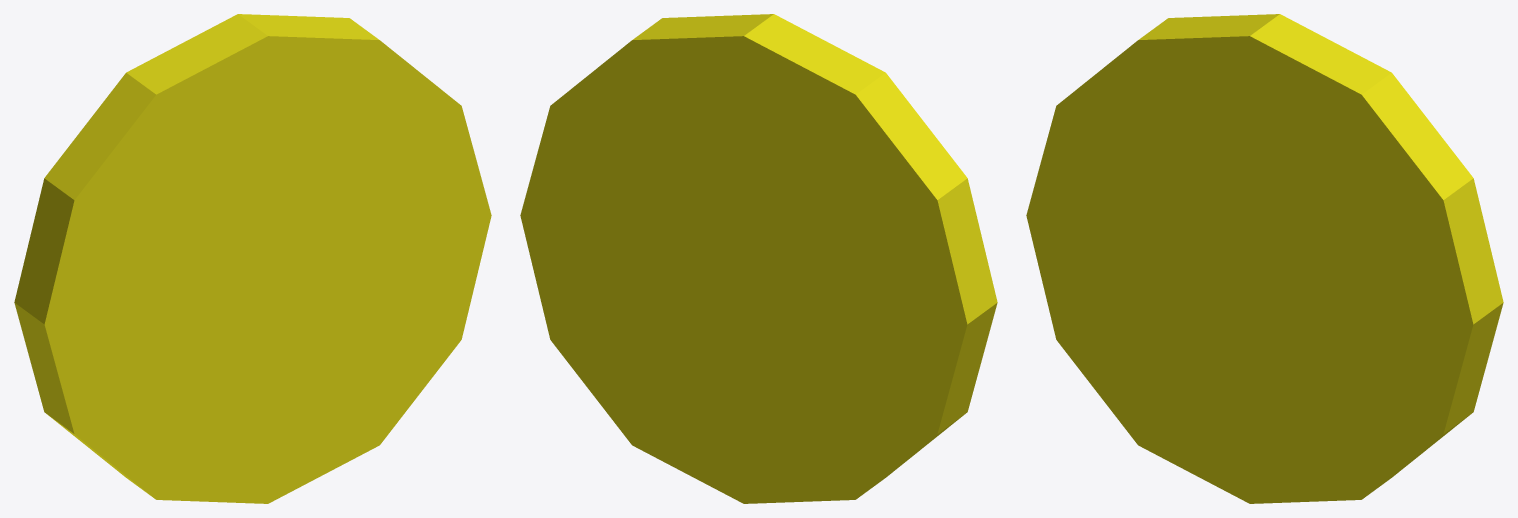
The model's file is coin.glb.
3 renders of one model, left to right at view 1: azimuth 30°, elevation 25°; view 2: azimuth 150°, elevation 25°; view 3: azimuth 330°, elevation 25°, orthographic.
Parts seen in each view (by area): view 1: Cylinder; view 2: Cylinder; view 3: Cylinder.
Boxes of the visible parts, x1,y1,x2,y2 form: Cylinder: (14,14,491,503); Cylinder: (520,14,997,503); Cylinder: (1026,14,1503,503).
Bounding box in the file's own units: 0.94 × 0.94 × 0.11.
